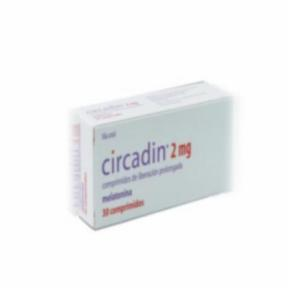box: (70, 84, 234, 228)
